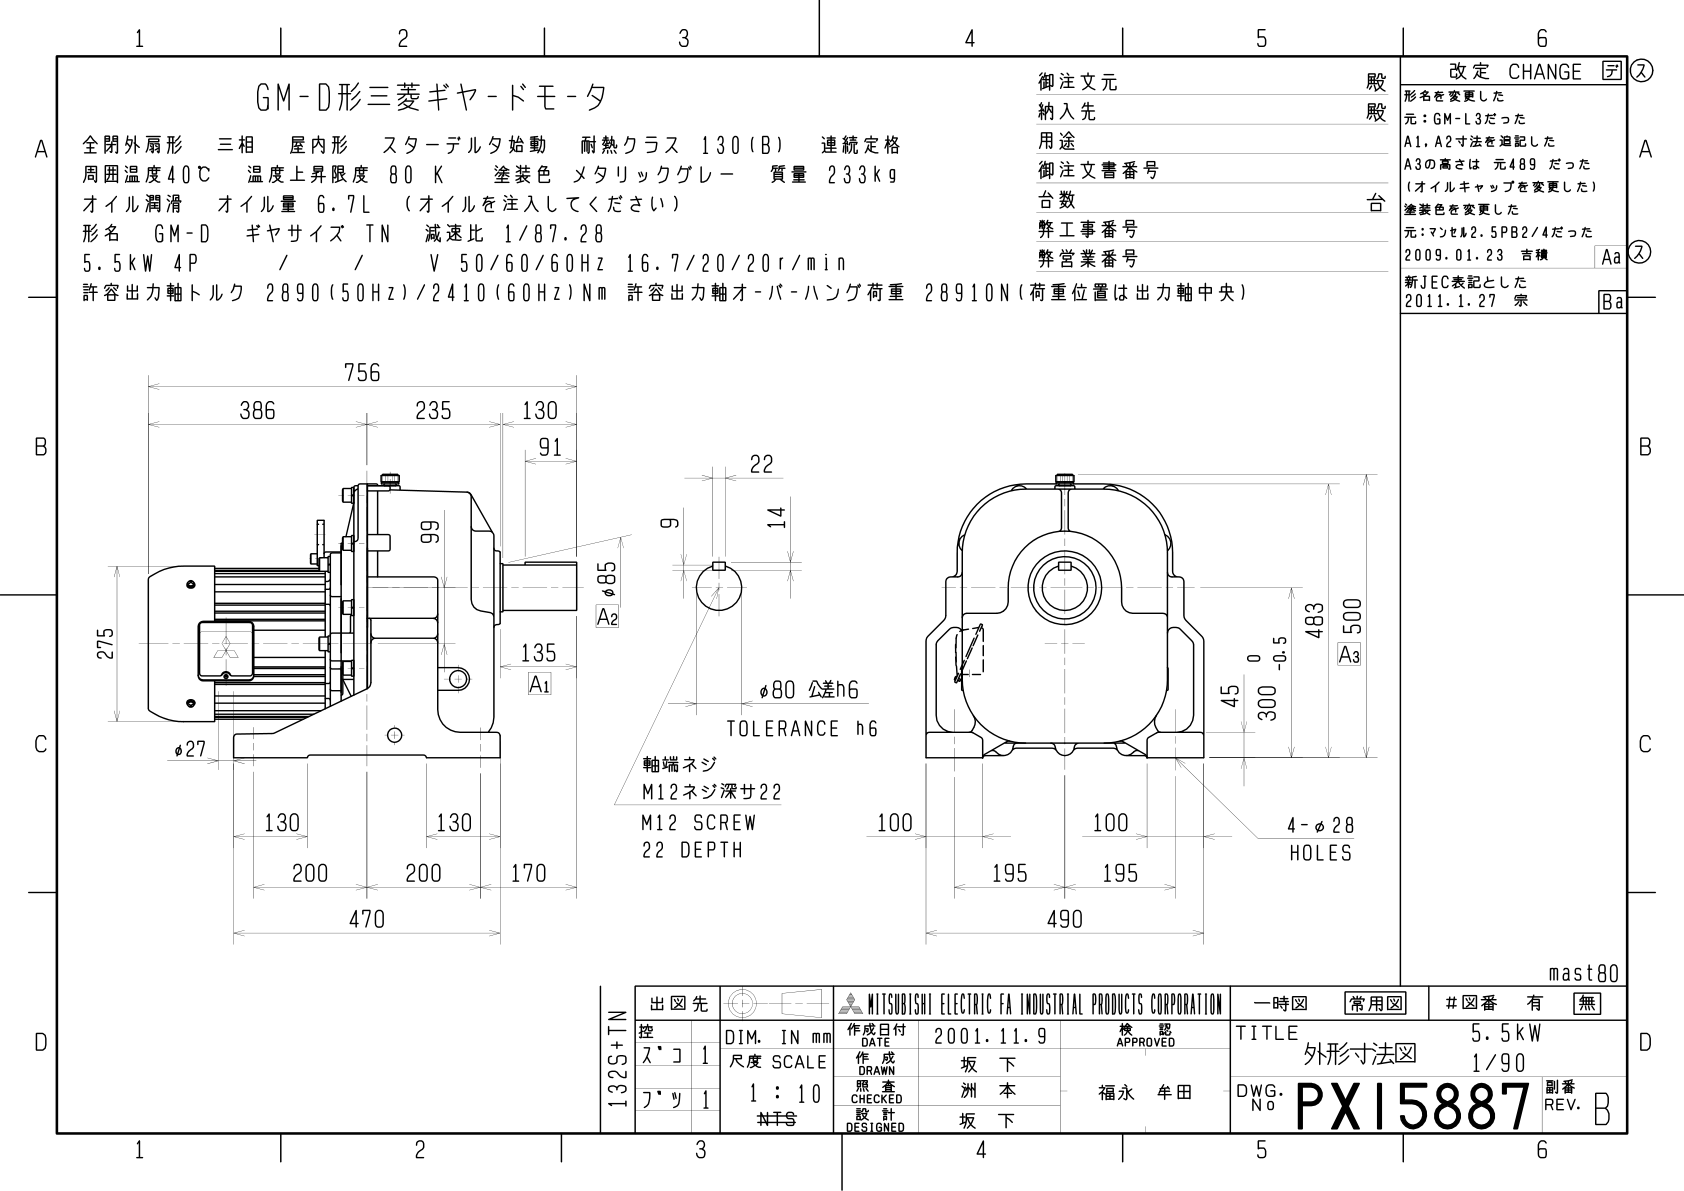GM_D_屋内＿三相_脚: (79, 320, 1393, 967)
